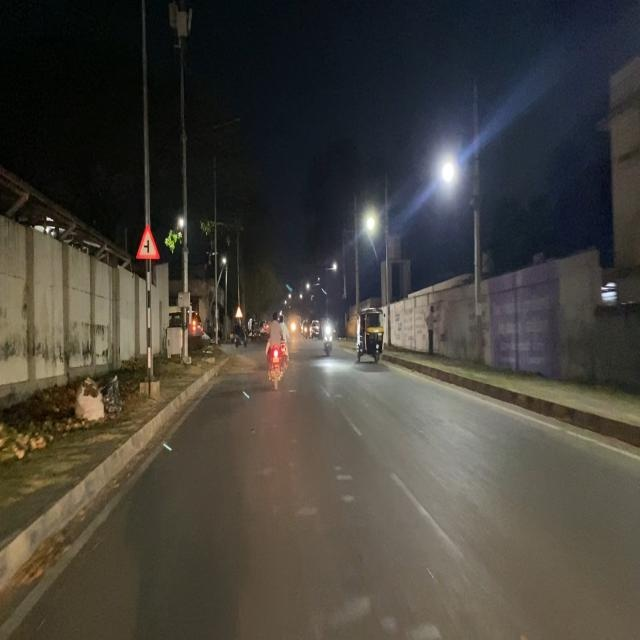bien_nguy_hiem: (135, 222, 160, 260)
